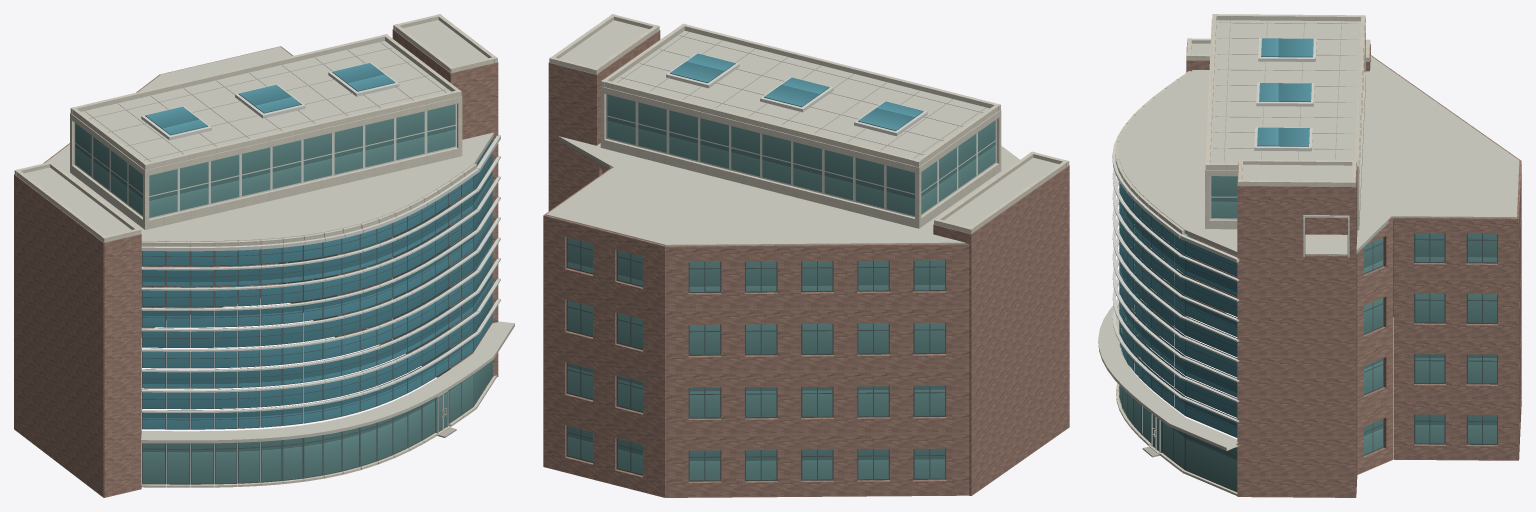
3 renders of one model, left to right at view 1: azimuth 30°, elevation 25°; view 2: azimuth 150°, elevation 25°; view 3: azimuth 270°, elevation 25°, orthographic. The views are drawn at different scales.
Visible parts, largest first — view 1: lecture2__blue-glass, lecture2__brick-wall, lecture2__roof, lecture2__pale-glass, lecture2__light-stone, lecture2__white-frame, lecture2__frame, lecture2-canopy__lecture2__canopy, lecture2__roof-seams; view 2: lecture2__brick-wall, lecture2__roof, lecture2__pale-glass, lecture2__light-stone, lecture2__frame, lecture2__white-frame, lecture2__blue-glass, lecture2__roof-seams; view 3: lecture2__brick-wall, lecture2__roof, lecture2__blue-glass, lecture2__pale-glass, lecture2__white-frame, lecture2__light-stone, lecture2__frame, lecture2-canopy__lecture2__canopy, lecture2__roof-seams.
Part boxes in pixels (x1,y1,x2,y2): lecture2__blue-glass: [142, 63, 492, 428]; lecture2__brick-wall: [14, 29, 498, 497]; lecture2__roof: [24, 20, 493, 244]; lecture2__pale-glass: [75, 104, 492, 483]; lecture2__light-stone: [14, 14, 497, 487]; lecture2__white-frame: [74, 62, 500, 433]; lecture2__frame: [142, 139, 493, 484]; lecture2-canopy__lecture2__canopy: [141, 321, 514, 443]; lecture2__roof-seams: [85, 42, 446, 161]; lecture2__brick-wall: [543, 30, 1069, 497]; lecture2__roof: [546, 20, 1058, 245]; lecture2__pale-glass: [567, 94, 995, 480]; lecture2__light-stone: [549, 14, 1069, 233]; lecture2__frame: [566, 171, 945, 481]; lecture2__white-frame: [606, 53, 996, 217]; lecture2__blue-glass: [670, 53, 923, 130]; lecture2__roof-seams: [616, 32, 985, 158]; lecture2__brick-wall: [1186, 43, 1521, 497]; lecture2__roof: [1118, 20, 1519, 255]; lecture2__blue-glass: [1119, 38, 1313, 437]; lecture2__pale-glass: [1119, 176, 1496, 491]; lecture2__white-frame: [1112, 38, 1349, 453]; lecture2__light-stone: [1115, 14, 1370, 495]; lecture2__frame: [1118, 182, 1497, 492]; lecture2-canopy__lecture2__canopy: [1098, 262, 1238, 450]; lecture2__roof-seams: [1214, 20, 1357, 162].
Bounding box in the file's own units: 26.54 × 18.83 × 22.84.
11 materials, 4 textured.
